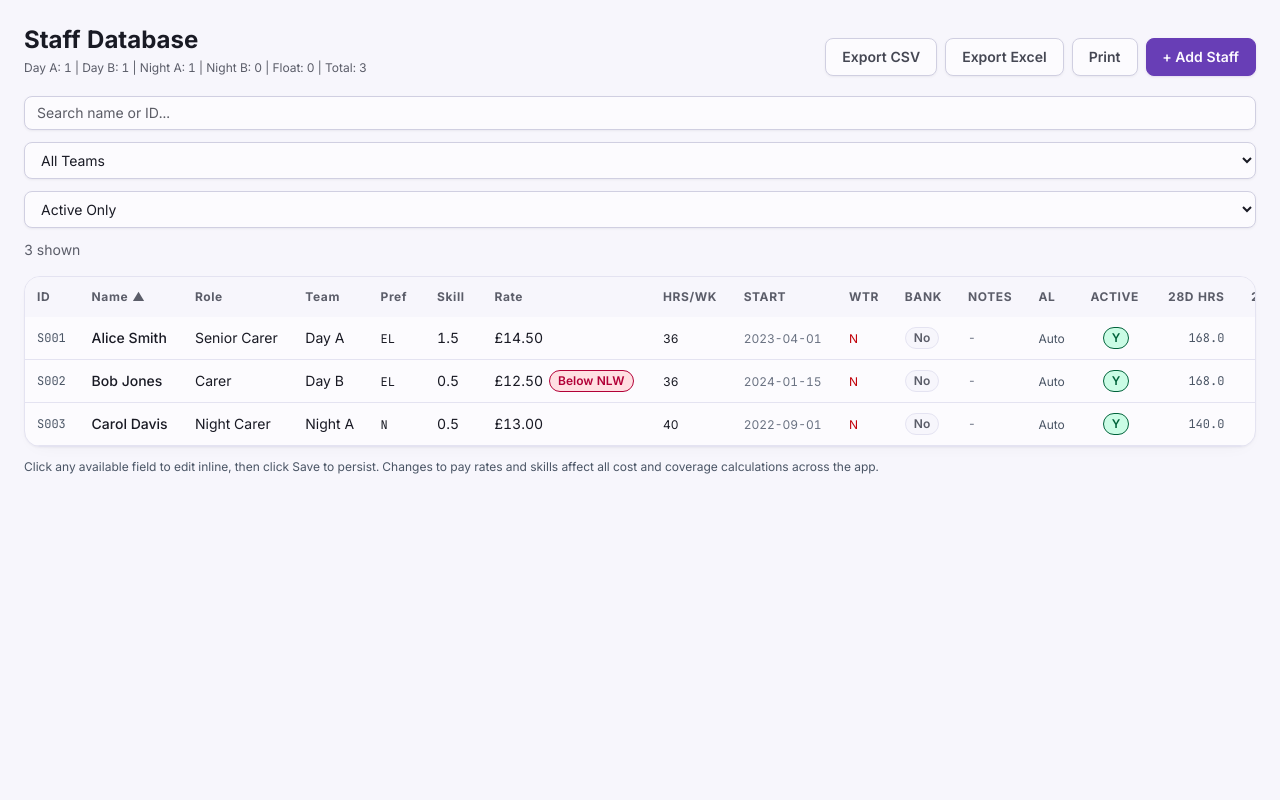
Test: StaffRegister › opens Add Staff modal when admin clicks Add Staff
Step 1. Click the button "+ Add Staff" → (1201, 57), box [1146, 38, 1256, 76]
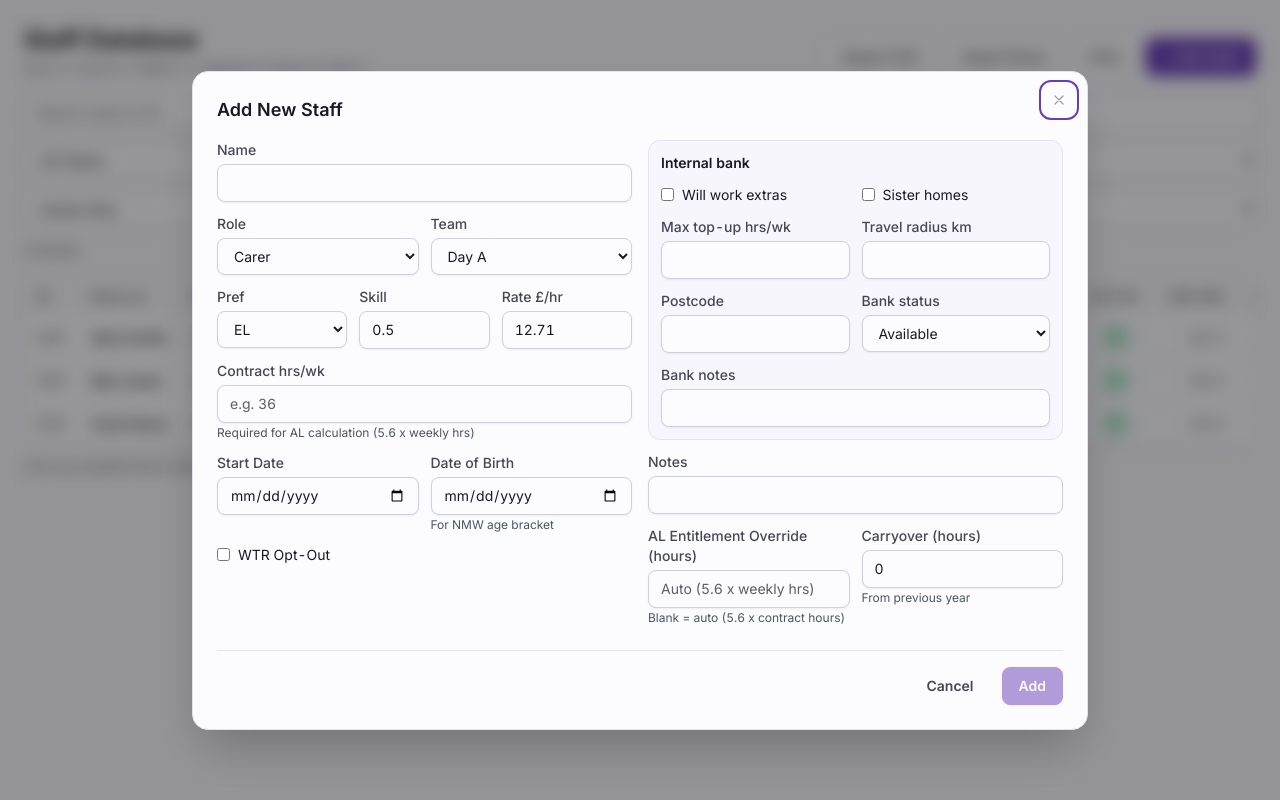
Check: the dialog is shown
Check: the heading "Add New Staff" is shown, box [217, 98, 343, 120]
